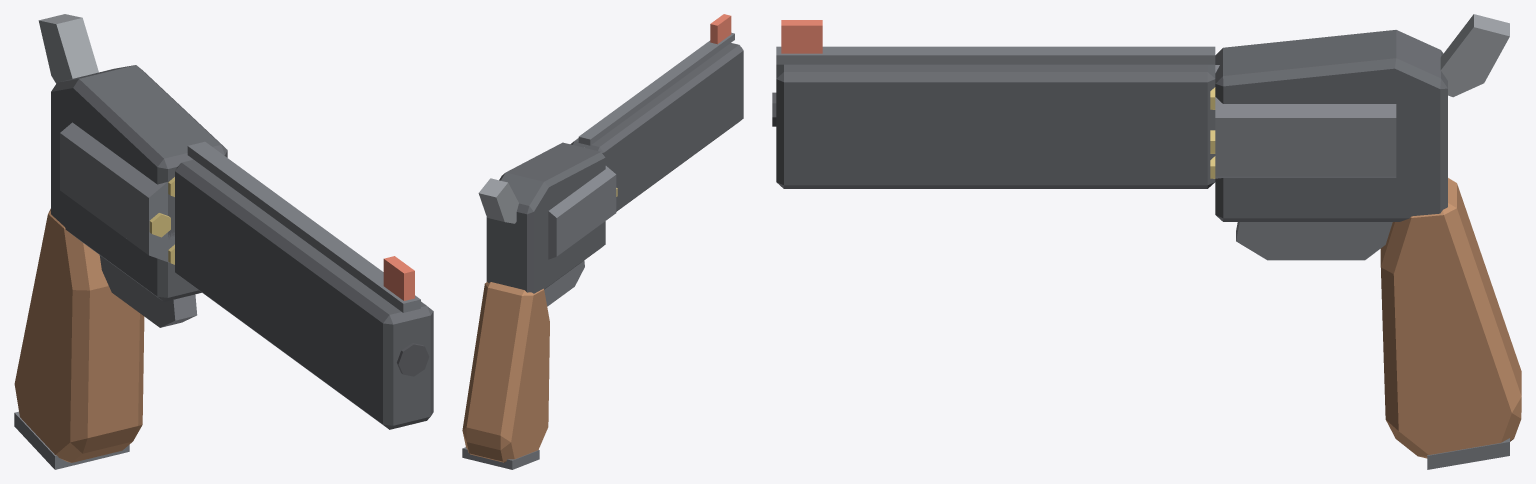
File: weapon_bulldog_44.fbx
The picture shows the model from 3 angles, left to right: view 1: azimuth 30°, elevation 25°; view 2: azimuth 150°, elevation 25°; view 3: azimuth 270°, elevation 25°; orthographic projection. The views are drawn at different scales.
Parts seen in each view (by area): view 1: weapon_bulldog_44; view 2: weapon_bulldog_44; view 3: weapon_bulldog_44.
Part boxes in pixels (left/top/right/bottom): weapon_bulldog_44: left=14, top=14, right=433, bottom=469; weapon_bulldog_44: left=462, top=14, right=743, bottom=469; weapon_bulldog_44: left=772, top=14, right=1521, bottom=469.
Size of the model in its own units: 0.0433 by 0.184 by 0.29.
